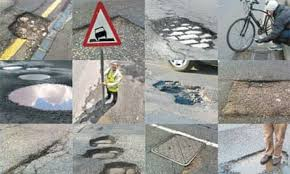pothole: (153, 13, 213, 53), (224, 80, 290, 116), (8, 81, 71, 114), (9, 10, 51, 42), (2, 62, 52, 81), (88, 135, 119, 158), (104, 162, 141, 174)
